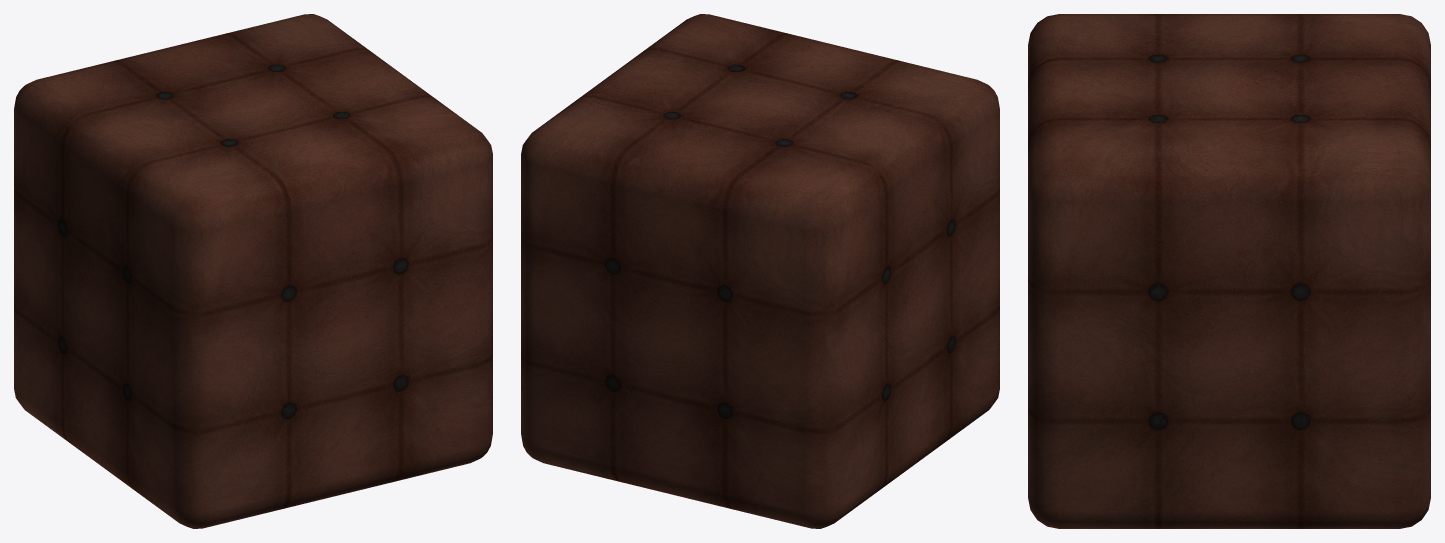
File: OttomanRetro01.FBX
3 renders of one model, left to right at view 1: azimuth 30°, elevation 25°; view 2: azimuth 150°, elevation 25°; view 3: azimuth 270°, elevation 25°, orthographic. The views are drawn at different scales.
Visible parts, largest first — view 1: OttomanRetro01; view 2: OttomanRetro01; view 3: OttomanRetro01.
Part boxes in pixels (x1,y1,x2,y2): OttomanRetro01: (14,14,492,528); OttomanRetro01: (521,14,999,528); OttomanRetro01: (1028,14,1430,528).
Size of the model in its own units: 600 by 600 by 600.
